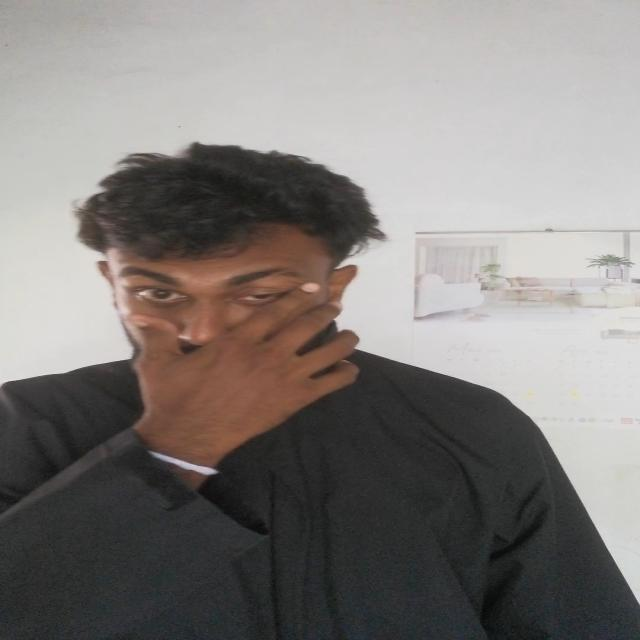Jacket_Wearer: (0, 308, 640, 640)
Person: (0, 144, 639, 640)
